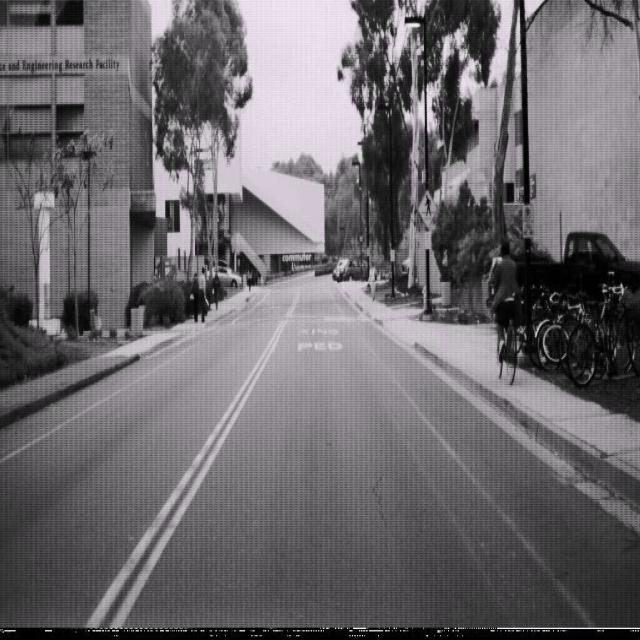pedestrianCrossing: (417, 188, 438, 228)
